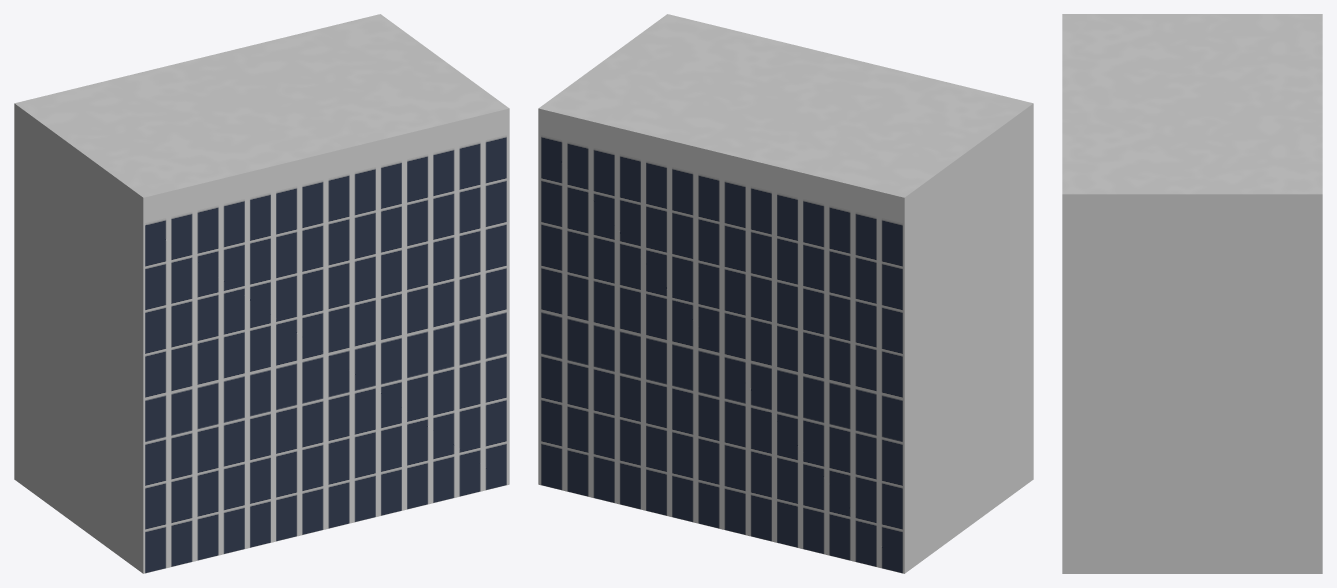
Rendered from Building_S_W1_a_001.fbx.
The picture shows the model from 3 angles, left to right: view 1: azimuth 30°, elevation 25°; view 2: azimuth 150°, elevation 25°; view 3: azimuth 270°, elevation 25°; orthographic projection.
Visible parts, largest first — view 1: Building_S_W1_001; view 2: Building_S_W1_001; view 3: Building_S_W1_001.
Part boxes in pixels (bbox=[...]): Building_S_W1_001: bbox=[14, 14, 509, 573]; Building_S_W1_001: bbox=[538, 14, 1033, 573]; Building_S_W1_001: bbox=[1062, 14, 1322, 573].
Bounding box in the file's own units: 38.5 × 37.8 × 23.51.
